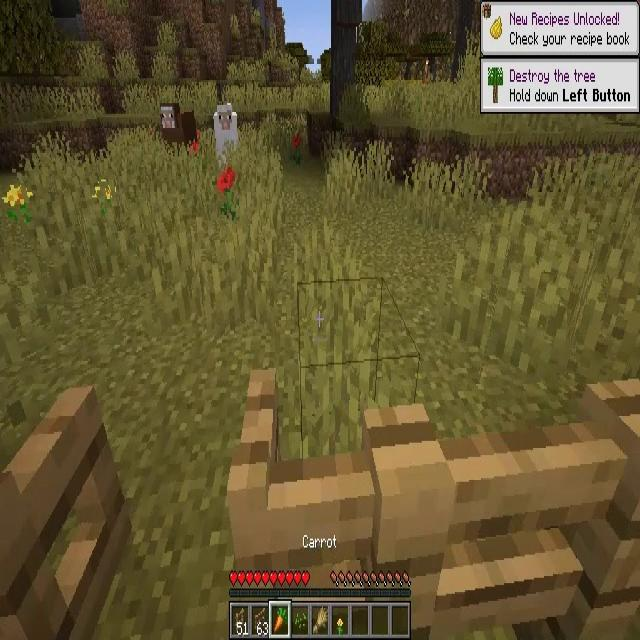sheep: (161, 103, 197, 153), (214, 105, 238, 166)
